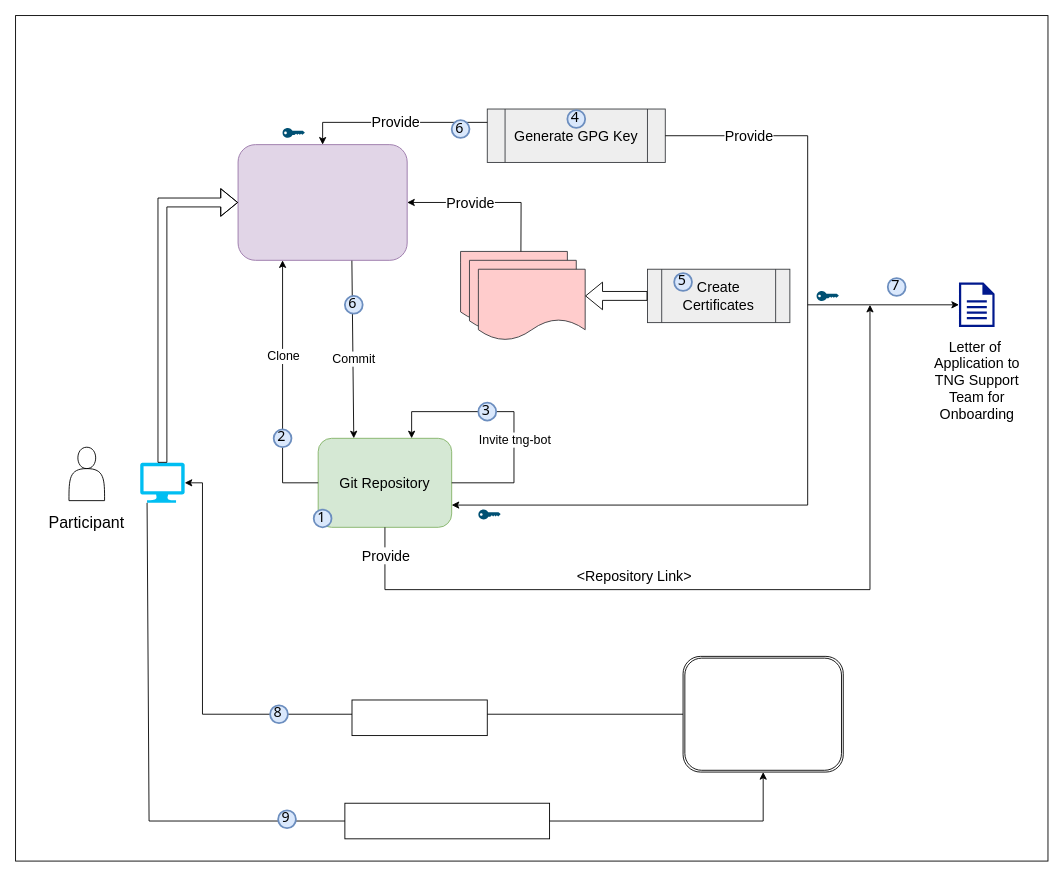
The diagram is 1064 pixels wide and 877 high, and some of its shapes have lost their labels. The shapes that lost their labels are listed below. From the top down, each one's centre as x and y in pixels, then its label:
At point 322,202: "Local Repository".
At point 531,304: "Certificates".
At point 419,717: "GET /trustlist".
At point 762,713: "TNG Application".
At point 447,820: "POST /signerCertificate".
